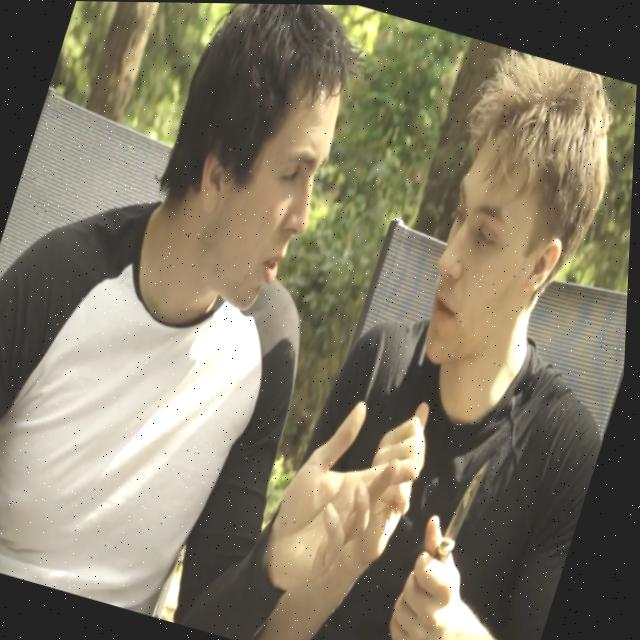knife: (432, 437, 508, 560)
